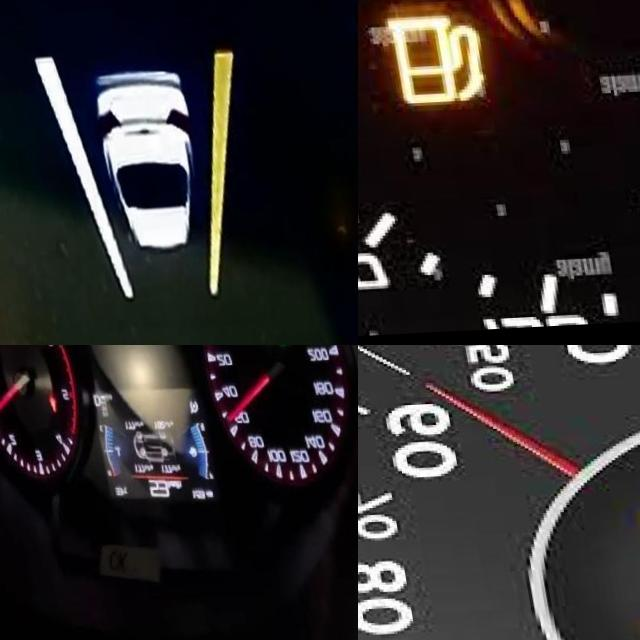Seat Belt: (36, 399, 46, 416)
